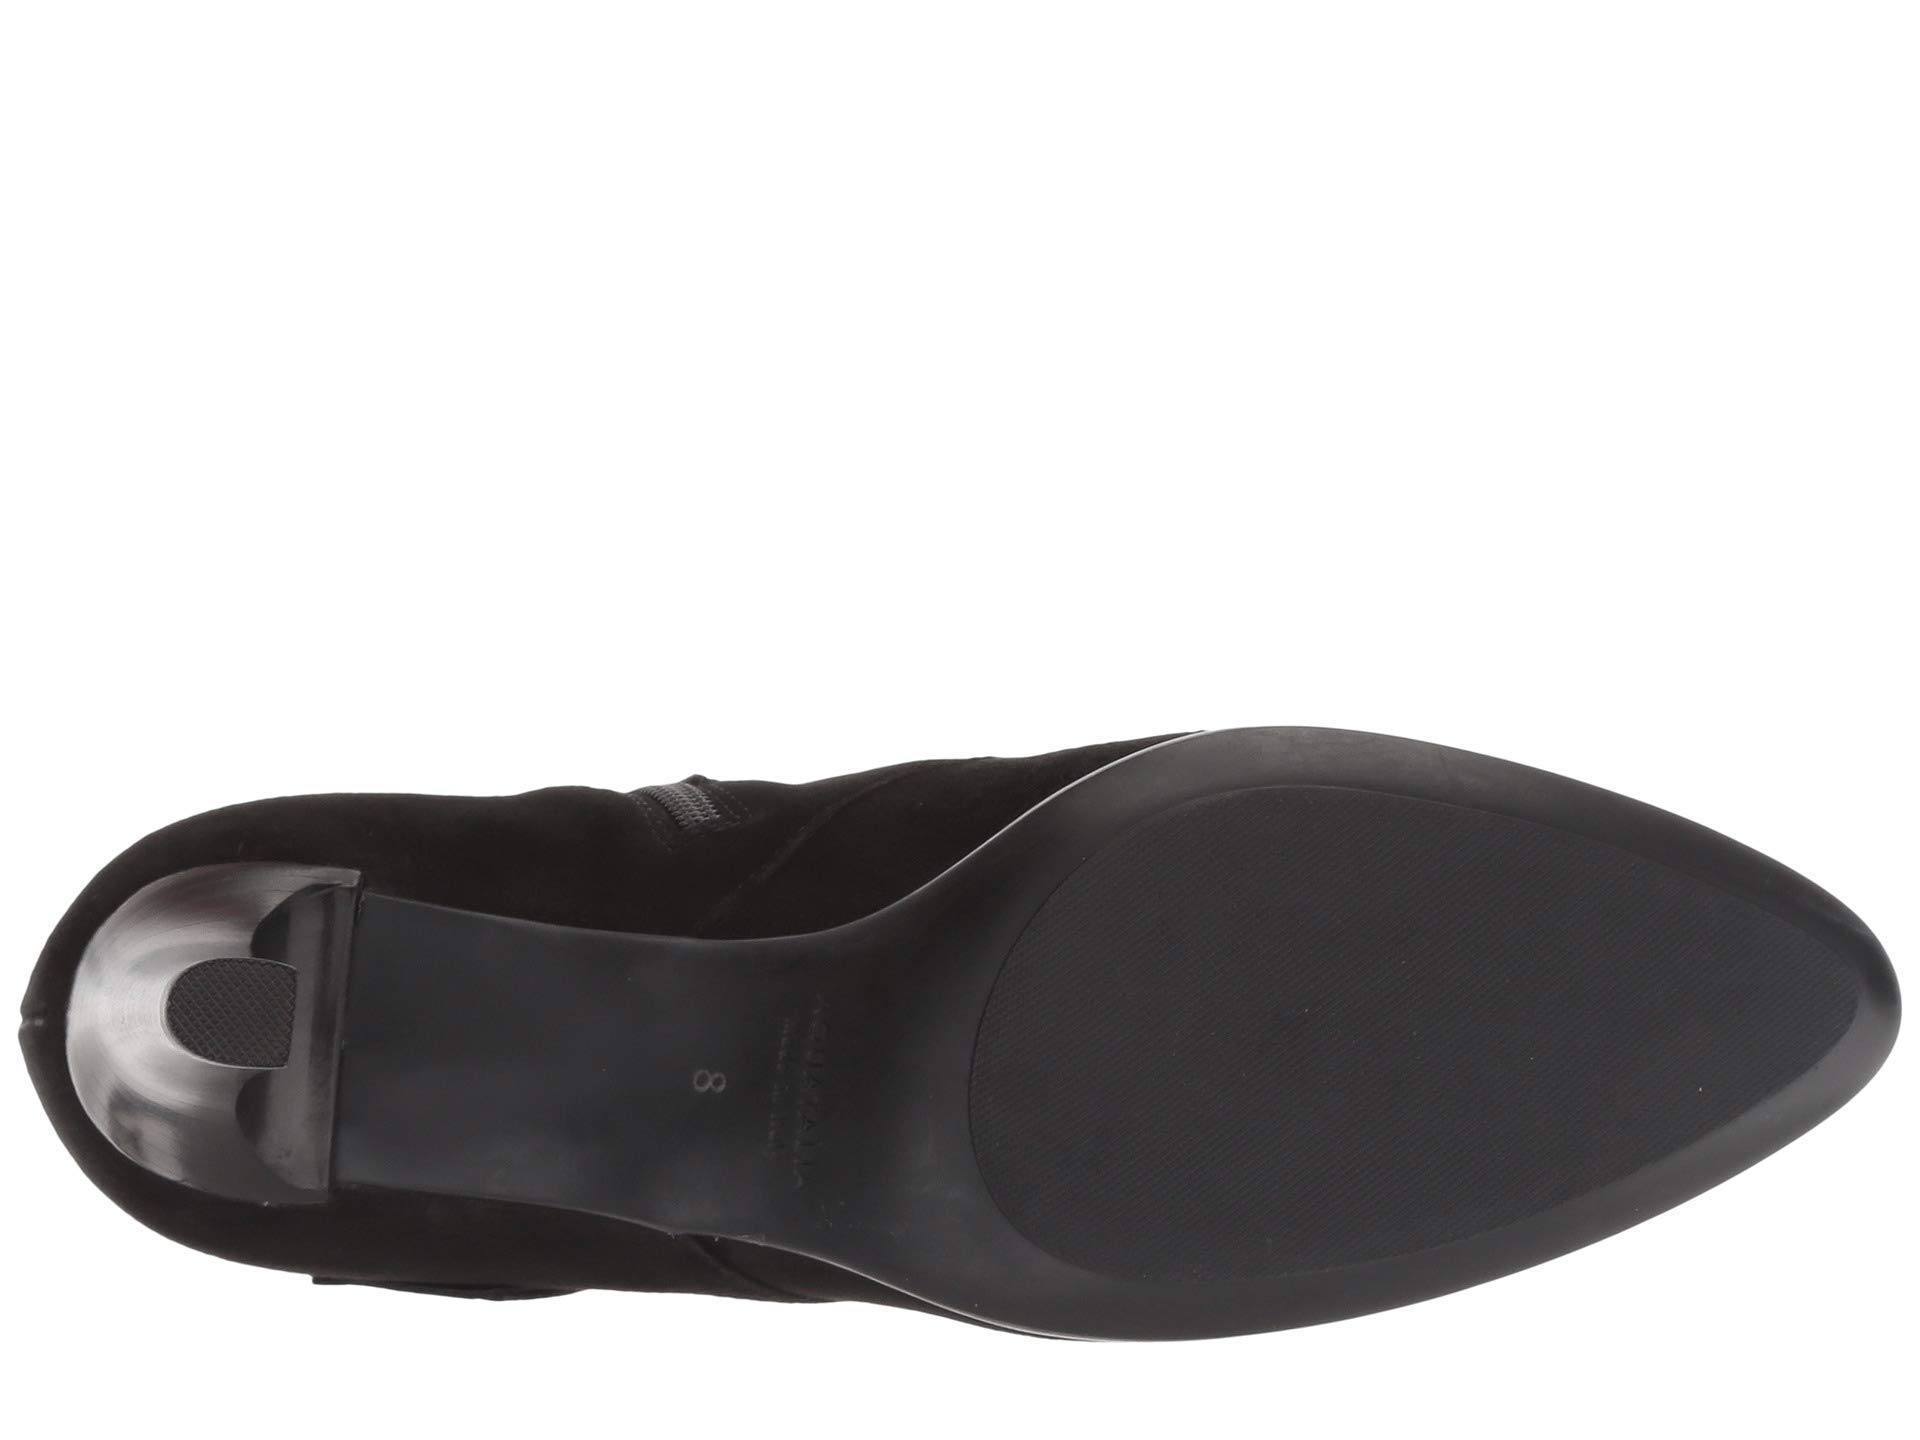exclude: (386, 741, 878, 1363)
line: (190, 976, 274, 1051)
